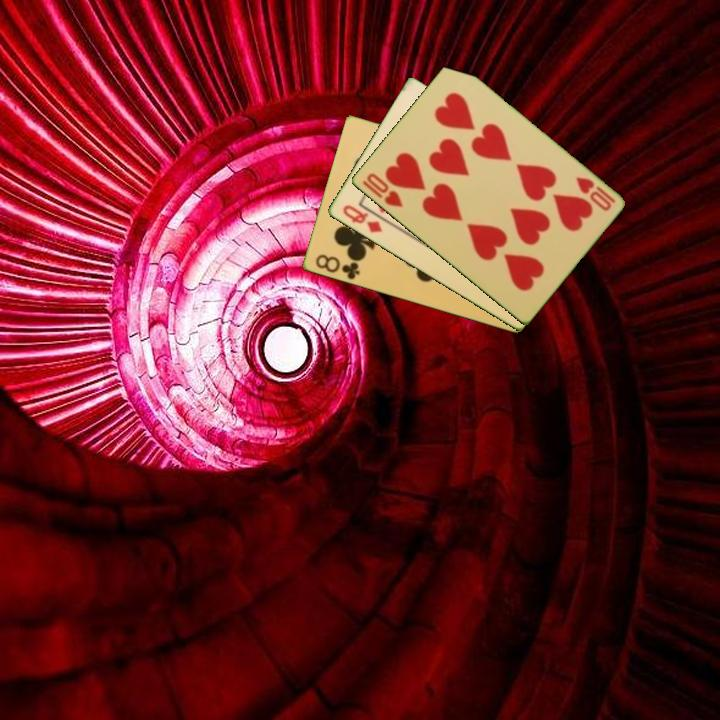10h: (572, 173, 618, 214), (363, 169, 406, 211)
8c: (311, 251, 362, 283)
Qd: (339, 201, 385, 236)
